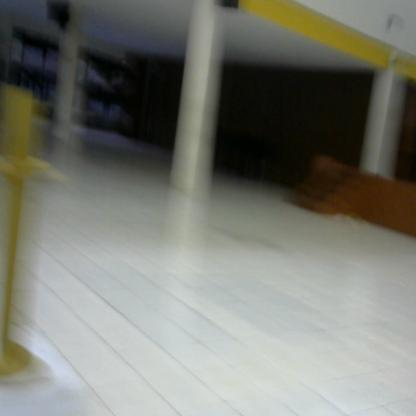pole: (1, 79, 63, 387)
